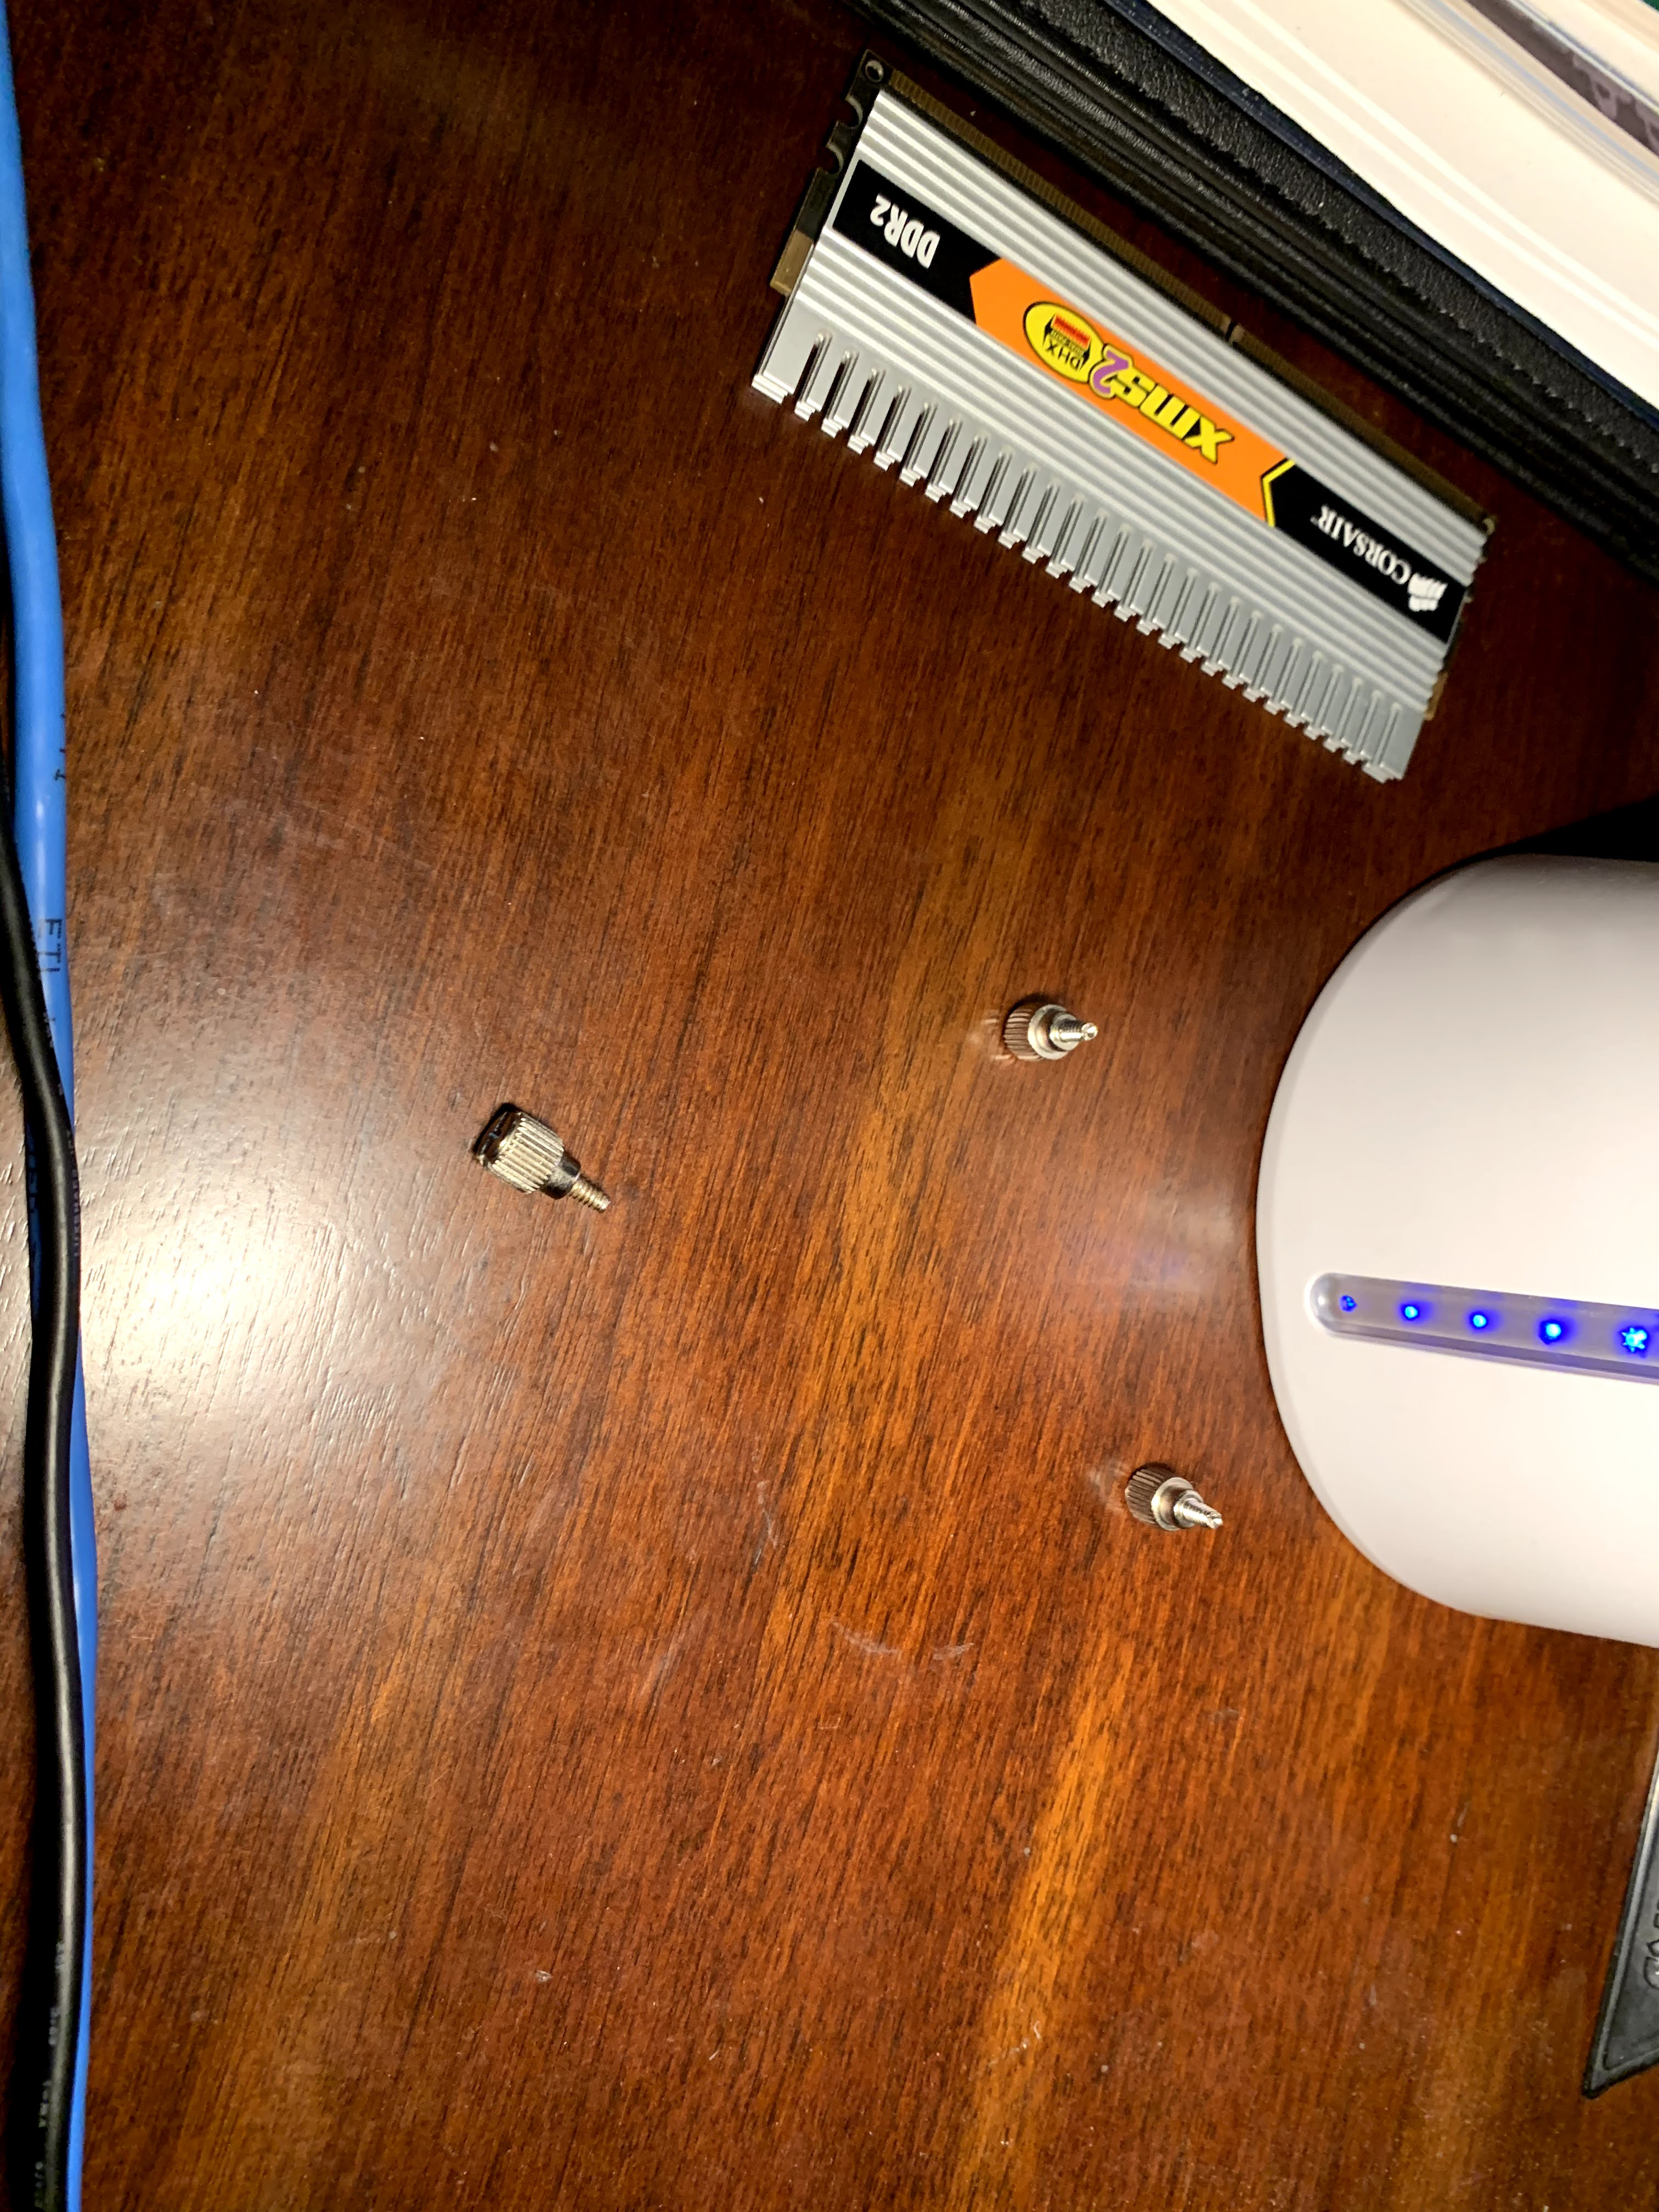Space-debris-medium: (744, 42, 1513, 798)
Space-debris-small: (471, 1087, 622, 1242), (1114, 1430, 1229, 1564), (993, 972, 1105, 1080)
